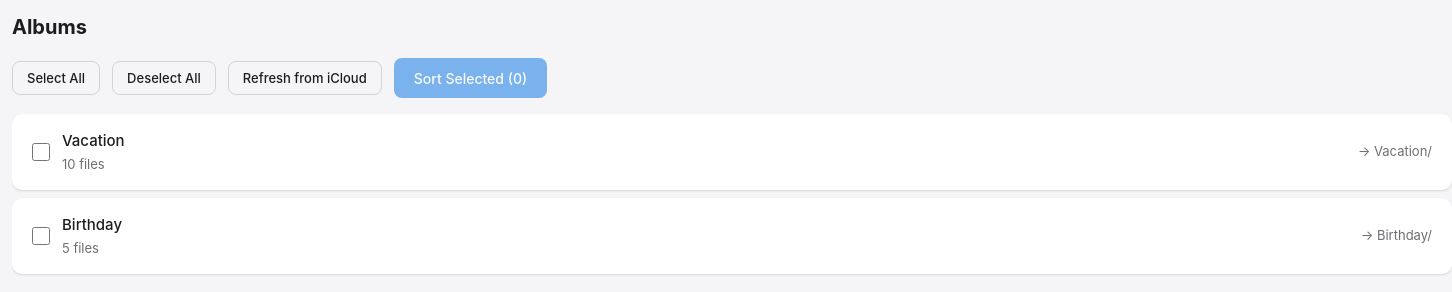
AlbumPicker › select all / deselect all
This screenshot has width=1452, height=292.
expect the text "Vacation" is shown: met, box [62,130,125,152]
What coordinates should you click on to do the following:
click the button "Select All"
I would click on:
 (56, 78)
Its box is [12,61,100,95].
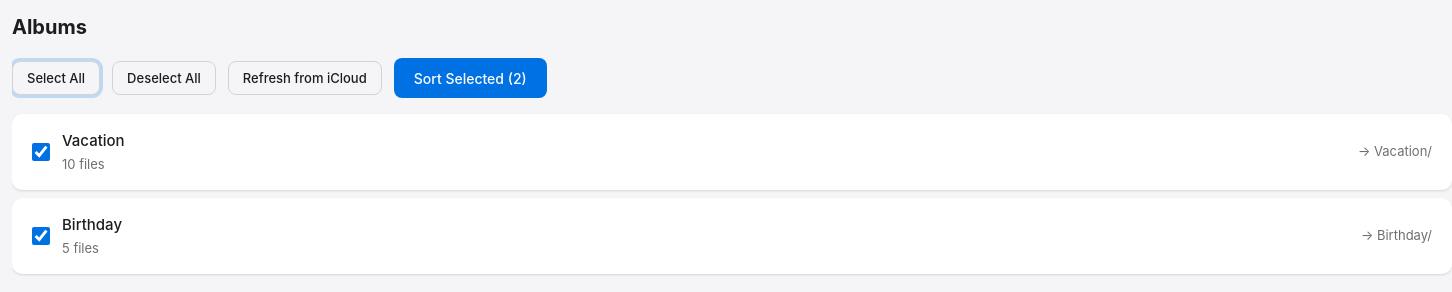
expect the checkbox labelled "Vacation 10 files → Vacation/" is checked: met, box [32,143,50,161]
expect the checkbox labelled "Birthday 5 files → Birthday/" is checked: met, box [32,227,50,245]
What coordinates should you click on to do the following:
click the button "Deselect All"
I would click on:
 (164, 78)
Its box is [112,61,216,95].
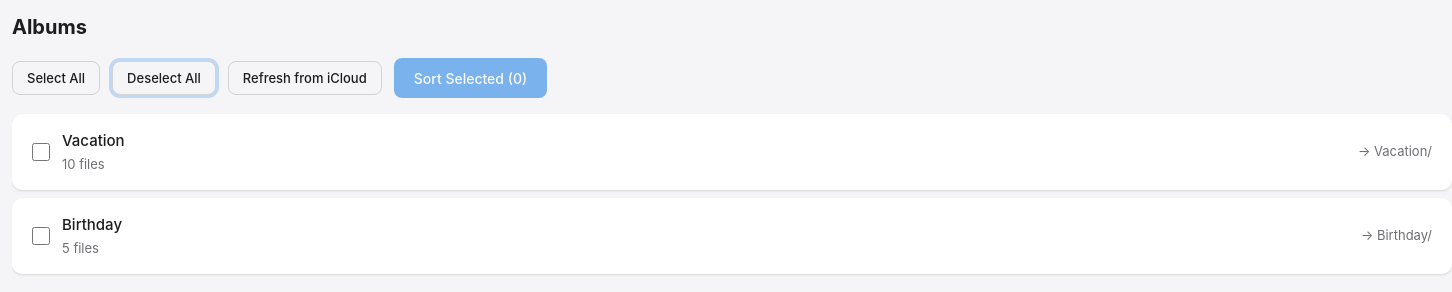
expect the checkbox labelled "Vacation 10 files → Vacation/" is not checked: met, box [32,143,50,161]
expect the checkbox labelled "Birthday 5 files → Birthday/" is not checked: met, box [32,227,50,245]
